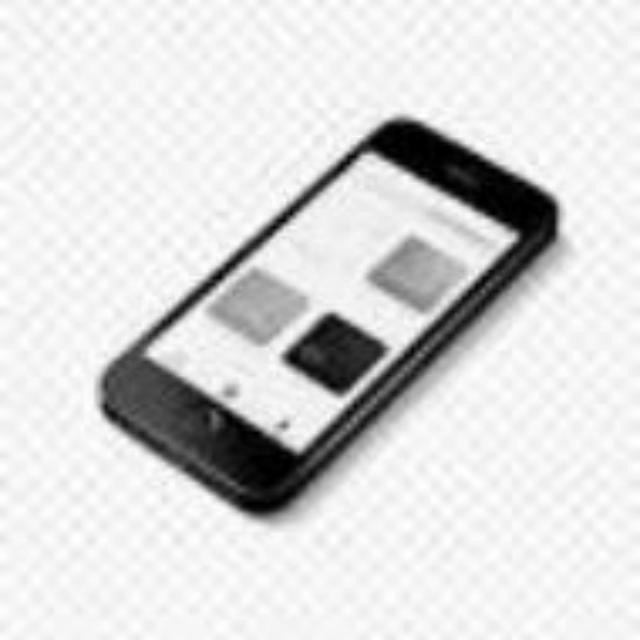fake: (86, 102, 584, 562)
